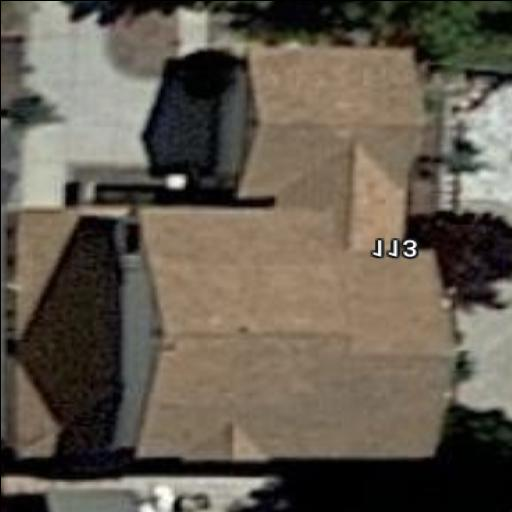Slope-Roof: (127, 41, 461, 461)
